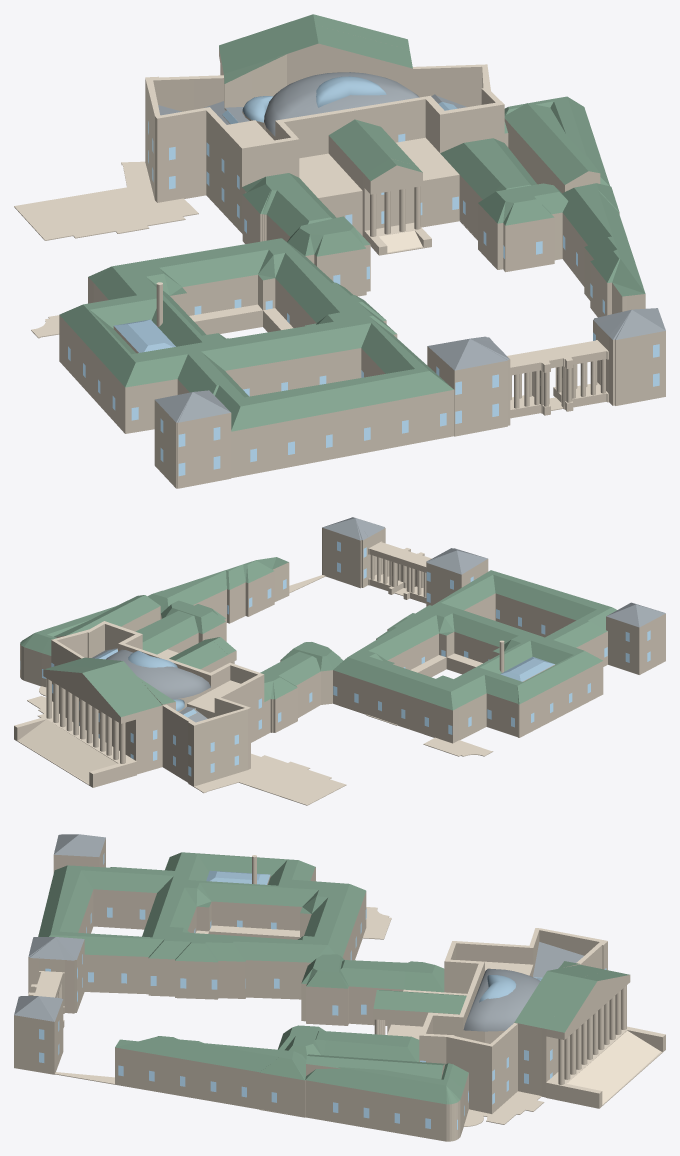
The model's file is detail.glb.
3 renders of one model, top to bottom at view 1: azimuth 30°, elevation 25°; view 2: azimuth 150°, elevation 25°; view 3: azimuth 270°, elevation 25°, orthographic. The views are drawn at different scales.
Parts seen in each view (by area): view 1: stone, metal, roof, window, glass; view 2: stone, metal, roof, window, glass; view 3: stone, metal, roof, window, glass.
Part boxes in pixels (box(x1,y1,x2,y2)): stone: box(14, 43, 665, 488); metal: box(59, 14, 645, 431); roof: box(155, 72, 665, 422); window: box(68, 121, 659, 476); glass: box(114, 76, 456, 352); stone: box(14, 527, 665, 805); metal: box(20, 557, 616, 716); roof: box(91, 517, 665, 722); window: box(20, 541, 650, 776); glass: box(95, 649, 554, 717); stone: box(14, 838, 665, 1141); metal: box(38, 852, 629, 1104); roof: box(14, 834, 583, 1031); window: box(39, 853, 606, 1129); glass: box(206, 870, 542, 1002).
Size of the model in its own units: 164 by 27.4 by 177.
